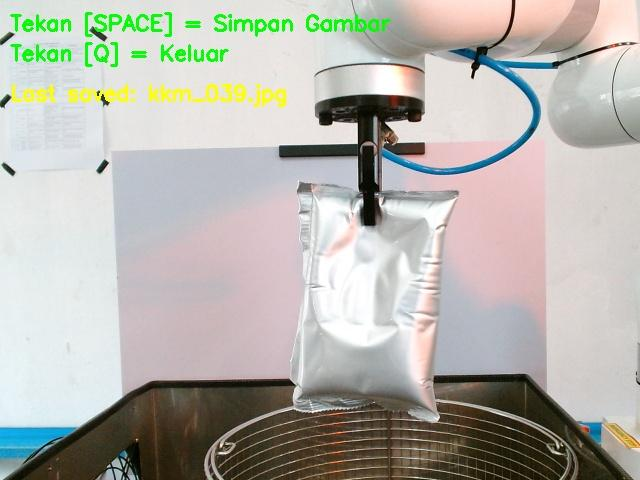retort-pouch: (289, 181, 457, 418)
